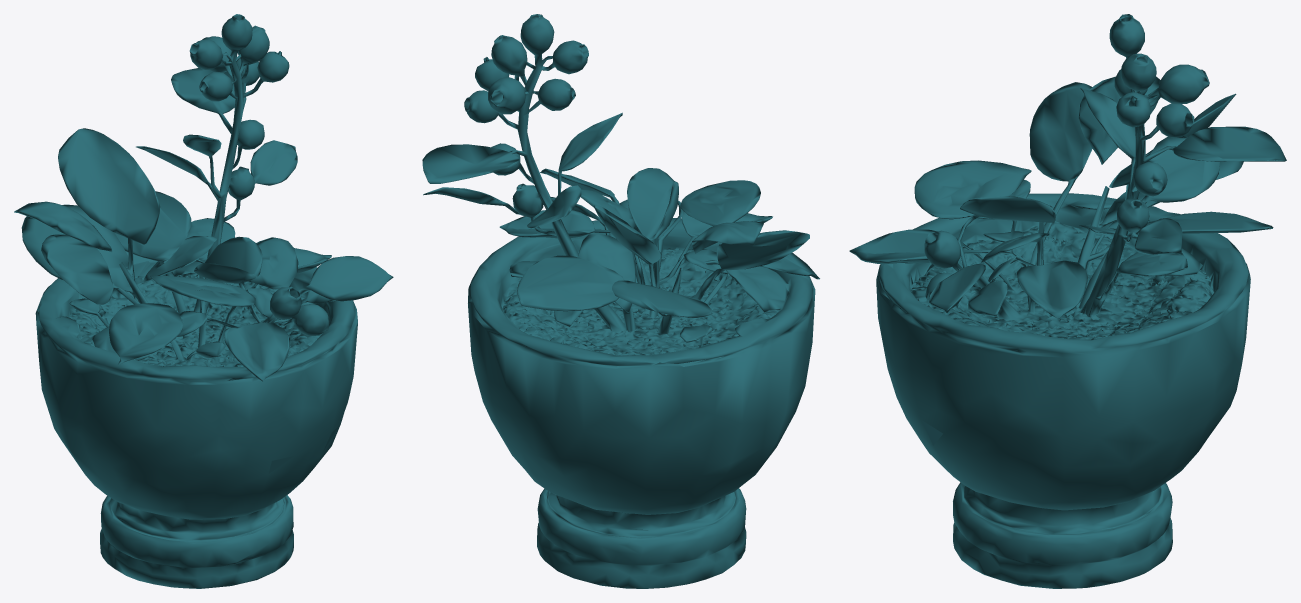
Rendered from gen-y2k-planter-pod-1.glb.
3 renders of one model, left to right at view 1: azimuth 30°, elevation 25°; view 2: azimuth 150°, elevation 25°; view 3: azimuth 270°, elevation 25°, orthographic. The views are drawn at different scales.
Parts seen in each view (by area): view 1: gen-y2k-planter-pod-1_part1; view 2: gen-y2k-planter-pod-1_part1; view 3: gen-y2k-planter-pod-1_part1.
Boxes of the visible parts, left/top/right/bottom form: gen-y2k-planter-pod-1_part1: left=14, top=14, right=393, bottom=588; gen-y2k-planter-pod-1_part1: left=422, top=14, right=819, bottom=588; gen-y2k-planter-pod-1_part1: left=849, top=14, right=1286, bottom=588.
Size of the model in its own units: 703 by 1100 by 773.
